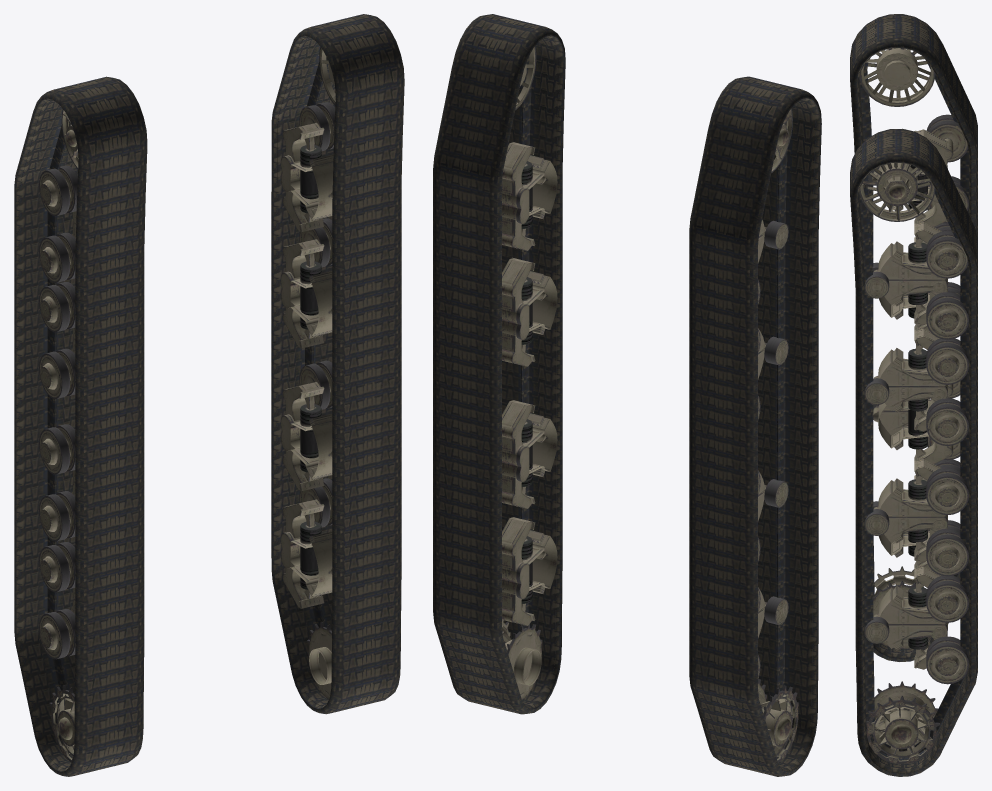
Rendered from Chassis.glb.
The picture shows the model from 3 angles, left to right: view 1: azimuth 30°, elevation 25°; view 2: azimuth 150°, elevation 25°; view 3: azimuth 270°, elevation 25°; orthographic projection. The views are drawn at different scales.
Visible parts, largest first — view 1: set_0_group_0, set_1_group_0, set_3_group_0, set_2_group_0; view 2: set_0_group_0, set_1_group_0, set_3_group_0, set_2_group_0; view 3: set_3_group_0, set_1_group_0, set_2_group_0, set_0_group_0.
Part boxes in pixels (x1,y1,x2,y2): set_0_group_0: [14, 76, 147, 776]; set_1_group_0: [271, 14, 404, 714]; set_3_group_0: [280, 47, 335, 699]; set_2_group_0: [39, 109, 78, 762]; set_0_group_0: [689, 76, 821, 776]; set_1_group_0: [433, 14, 565, 714]; set_3_group_0: [502, 46, 557, 699]; set_2_group_0: [758, 108, 798, 762]; set_3_group_0: [859, 163, 968, 763]; set_1_group_0: [850, 128, 977, 776]; set_2_group_0: [859, 48, 968, 648]; set_0_group_0: [850, 14, 977, 661].
Size of the model in its own units: 3.84 by 7.68 by 1.43.
Materials: 4 (4 with a texture image).
